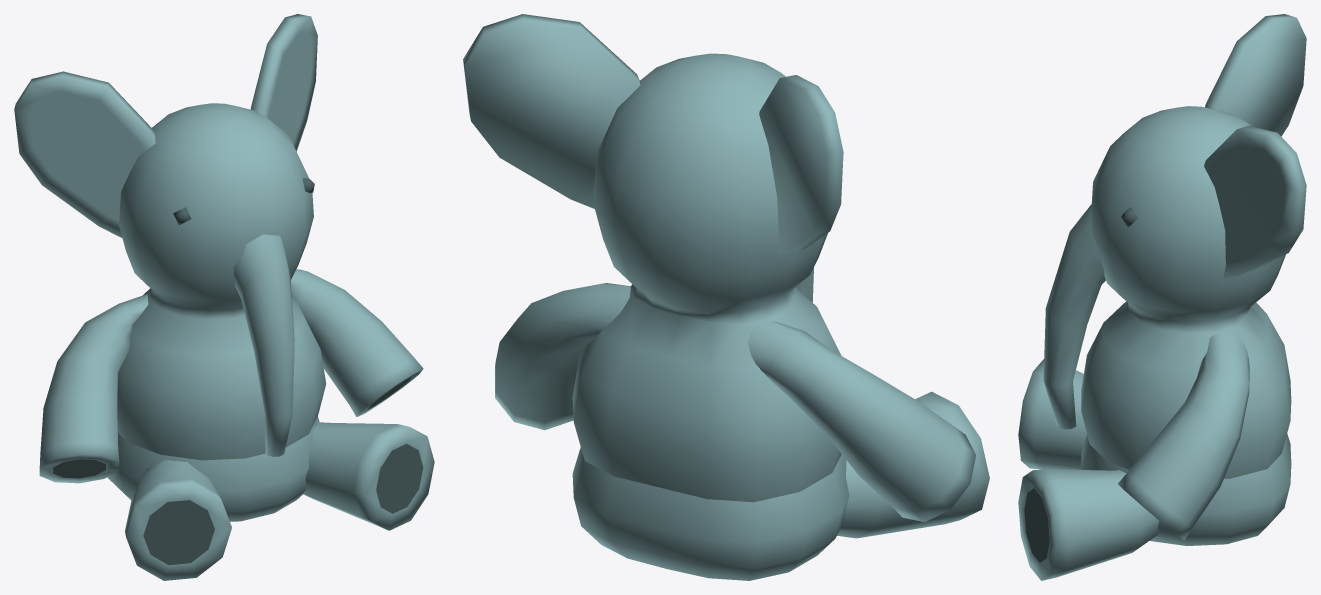
Rendered from GB_185_elephant_doll.glb.
3 views of the same model, side by side, from view 1: azimuth 30°, elevation 25°; view 2: azimuth 150°, elevation 25°; view 3: azimuth 270°, elevation 25° (orthographic). The views are drawn at different scales.
Visible parts, largest first — view 1: Base, Arms, Legs, Ears, Trunk; view 2: Base, Ears, Arms, Legs; view 3: Base, Ears, Legs, Arms, Trunk.
Boxes of the visible parts, left/top/right/bottom form: Base: left=107, top=103, right=326, bottom=521; Arms: left=39, top=269, right=423, bottom=483; Legs: left=125, top=422, right=434, bottom=580; Ears: left=14, top=14, right=317, bottom=237; Trunk: left=233, top=234, right=294, bottom=456; Base: left=572, top=53, right=849, bottom=580; Ears: left=463, top=14, right=843, bottom=253; Arms: left=495, top=283, right=975, bottom=522; Legs: left=837, top=391, right=989, bottom=538; Base: left=1081, top=106, right=1291, bottom=545; Ears: left=1204, top=14, right=1306, bottom=278; Legs: left=1018, top=359, right=1159, bottom=580; Arms: left=1118, top=332, right=1249, bottom=540; Trunk: left=1043, top=204, right=1105, bottom=429.
Size of the model in its own units: 0.8599 by 0.9171 by 0.5425.
